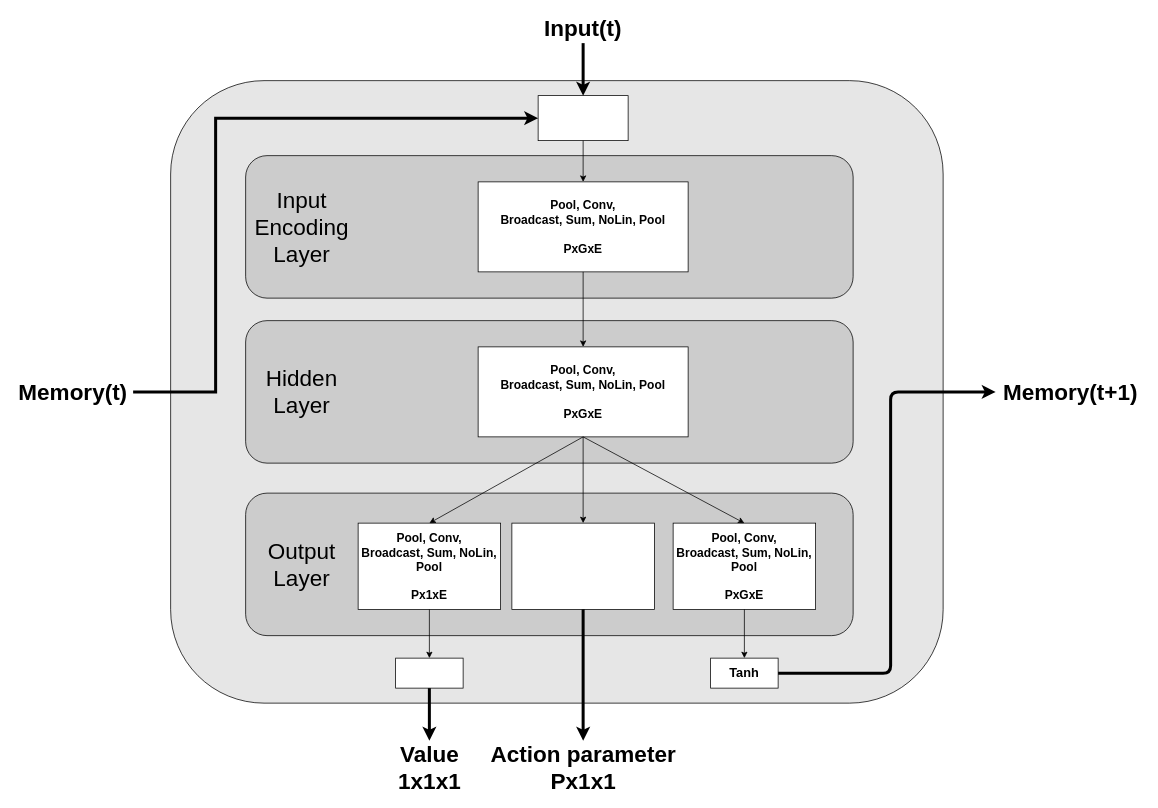
Some shapes in this 1158 by 808 pixel diagram are drawn without their labels. The centre of each missing label's shape, as x and y in pixels:
"concat" belongs at pixel 582 118.
"Pool, Conv, Broadcast, Sum, NoLin, Pool Px1x1" belongs at pixel 582 565.
"Sum" belongs at pixel 429 672.
